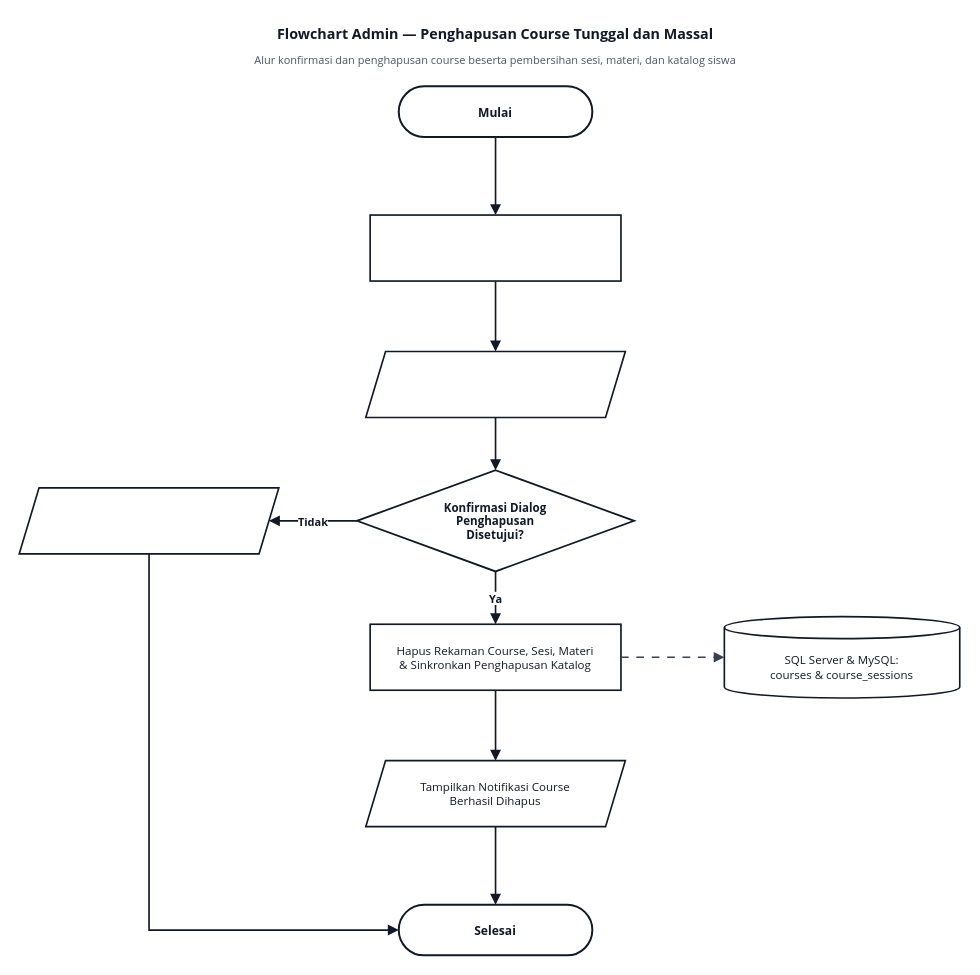
Image size: 980x975. Some labels were removed from this diagram. Each missing label, with the box of its shape:
Batalkan Proses Hapus & Kembali ke Daftar Course: (18, 487, 279, 554)
Buka Halaman Kelola Course & Pilih Course yang Akan Dihapus: (369, 214, 621, 281)
Klik Tombol Hapus Course atau Pilih Hapus Massal: (364, 350, 626, 418)
